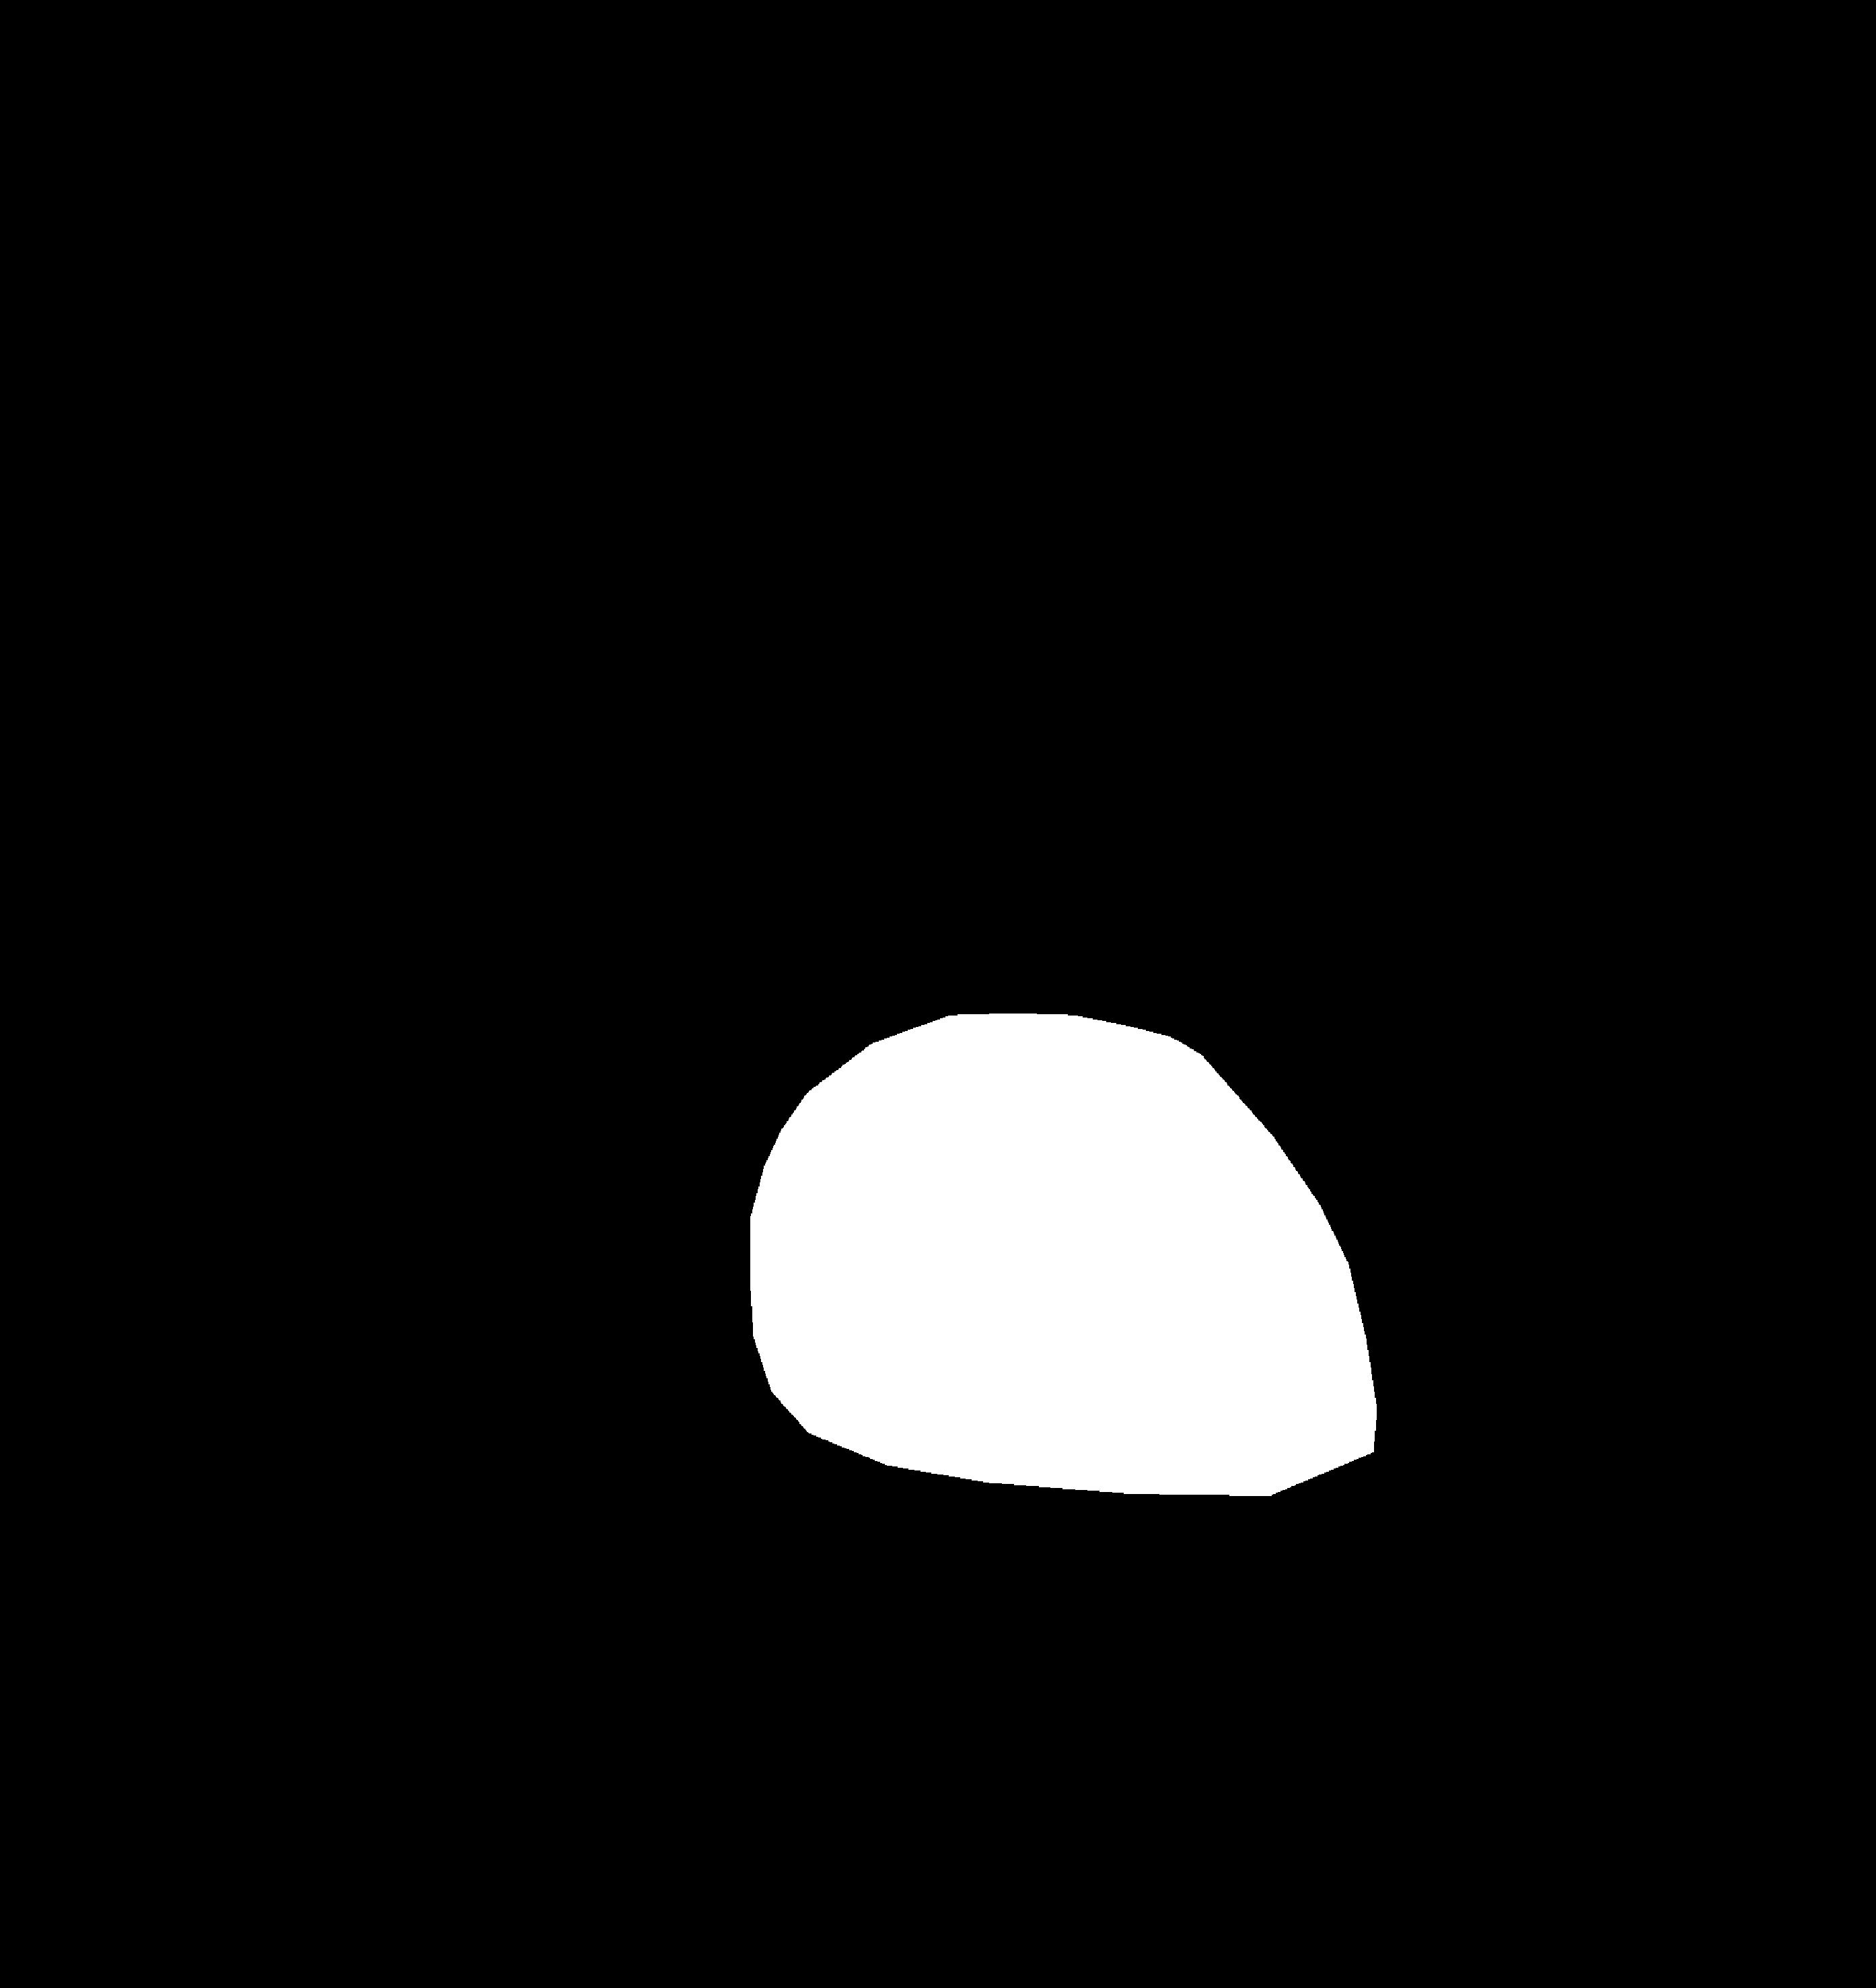heart: (753, 1057, 1384, 1533)
left_lung: (301, 330, 910, 1708)
right_lung: (1016, 342, 1649, 1711)
